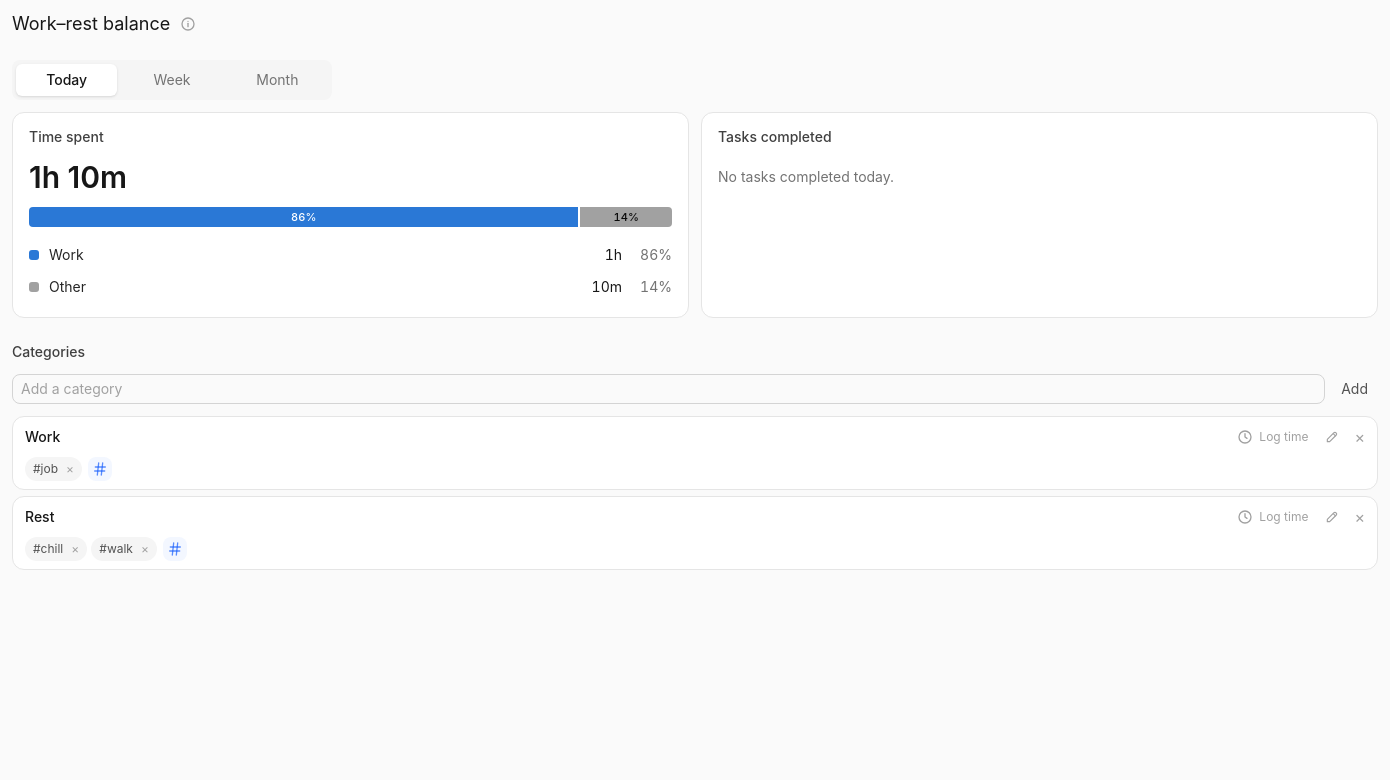
Test: the sessions behind a piece (BAL-16) › lists the sessions on tasks in no category under Other (BAL-5)
Click the button "Other 10m 14%" at x=68, y=286, box [21,271,680,303]
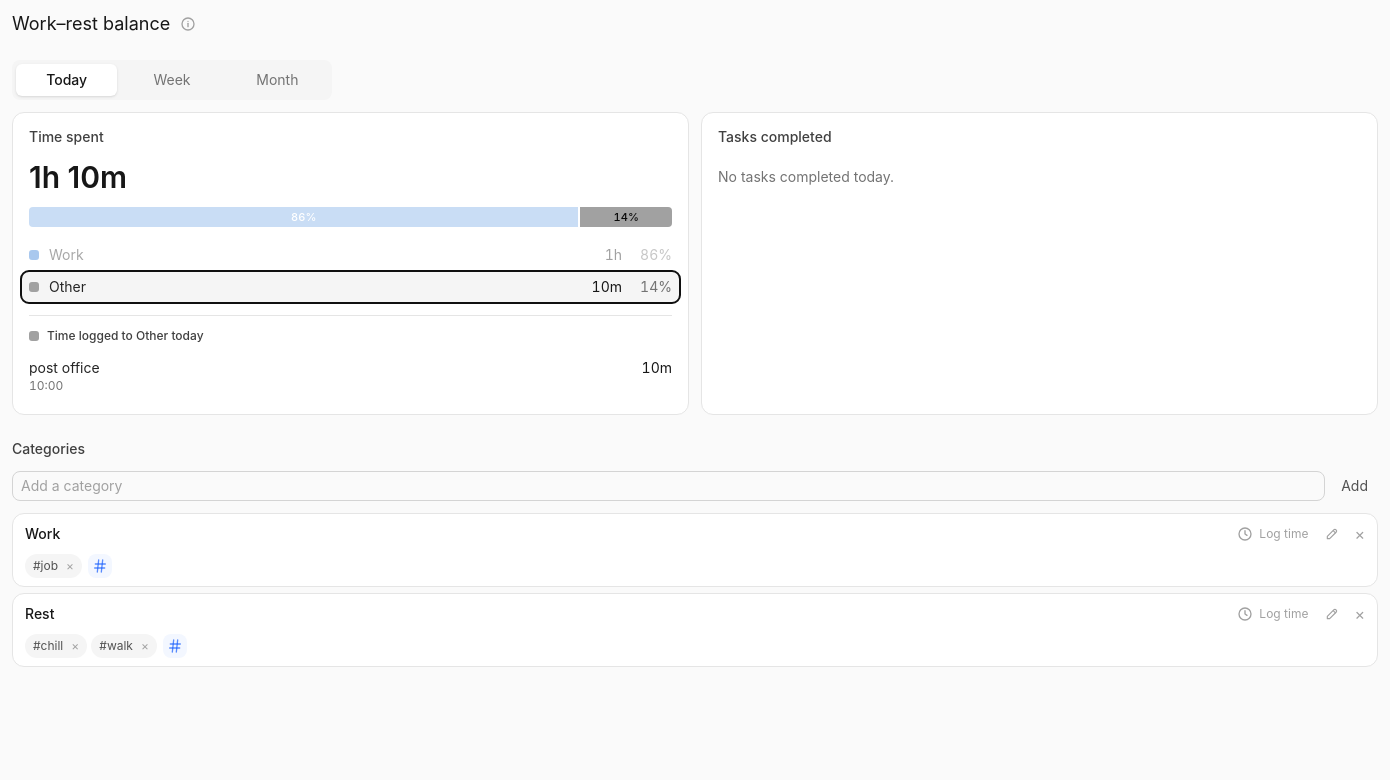
Result: the heading "Time logged to Other today" is shown at [29,328,204,343]
Result: the list items read "post office10:0010m", in this order at [21,352,680,400]
